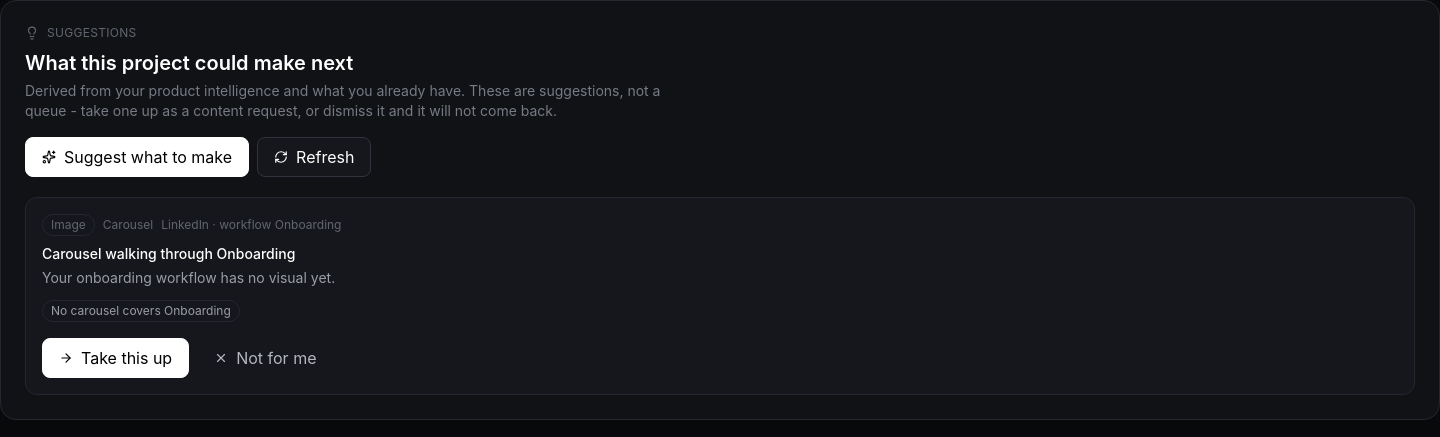
Test: RecommendationsPanel › dismisses a suggestion and moves it out of the active list
Click the button "Not for me" at (265, 358), box [197,338,334,378]
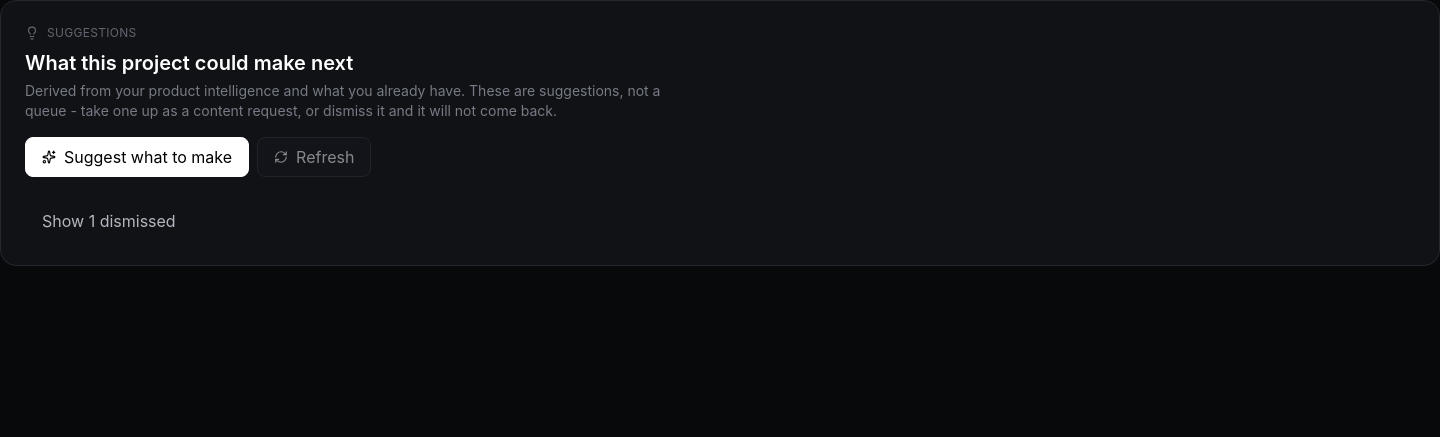
Check: the heading "Carousel walking through Onboarding" is gone
Check: the button "Show 1 dismissed" is shown, box [25,201,193,241]
